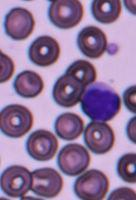L: (81, 80, 120, 122)
